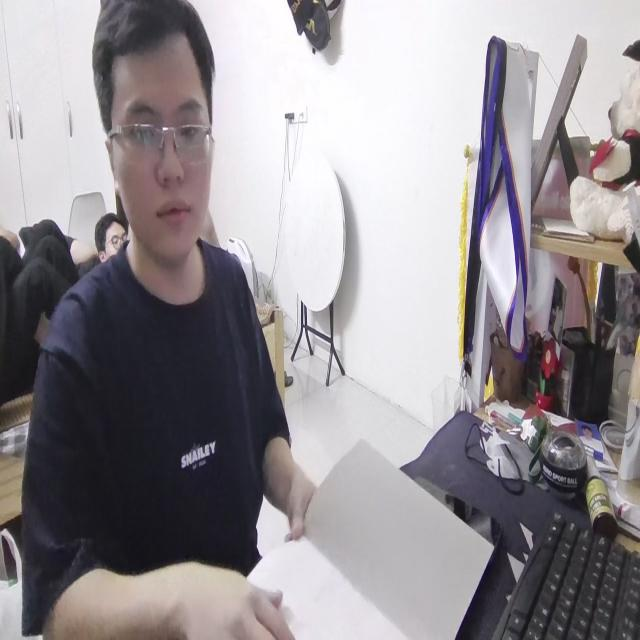book: (241, 437, 495, 640)
phone: (401, 470, 502, 563)
student: (21, 2, 325, 640)
